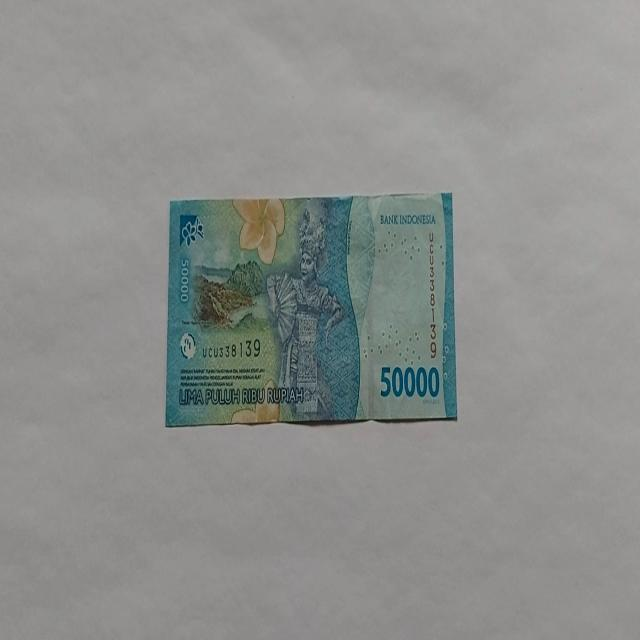lima puluh ribu rupiah: (164, 191, 458, 428)
